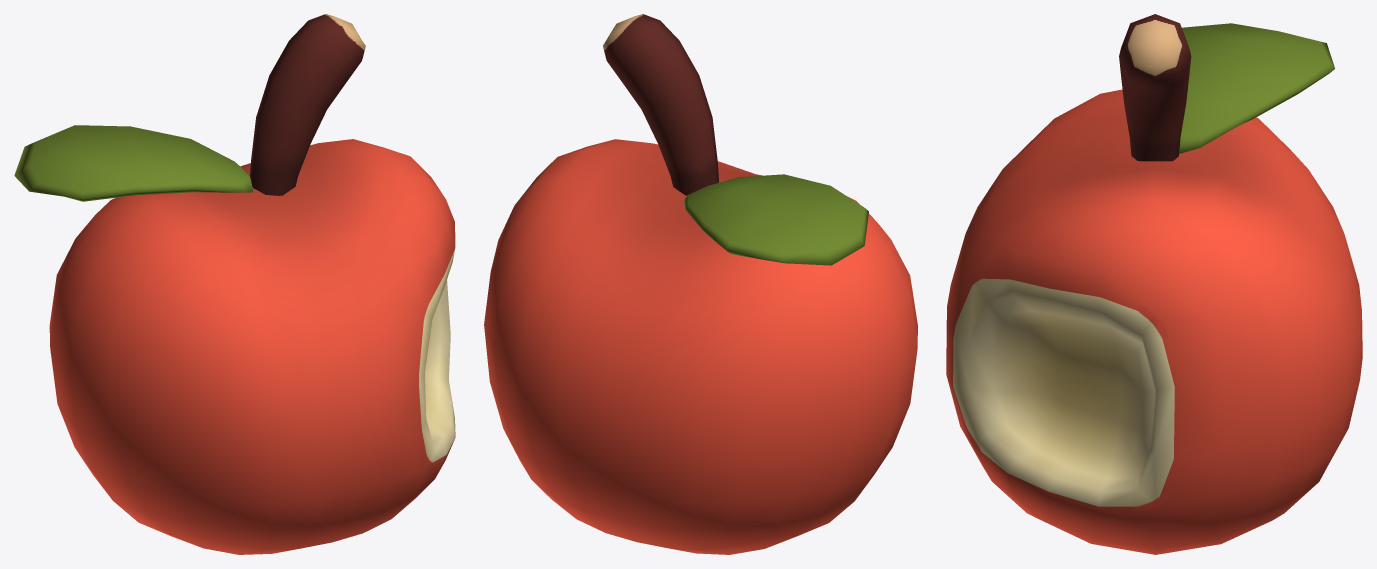
The model's file is Apple_mod.fbx.
3 views of the same model, side by side, from view 1: azimuth 30°, elevation 25°; view 2: azimuth 150°, elevation 25°; view 3: azimuth 270°, elevation 25° (orthographic). The views are drawn at different scales.
Parts seen in each view (by area): view 1: Apple; view 2: Apple; view 3: Apple.
Boxes of the visible parts, x1,y1,x2,y2 form: Apple: [14, 14, 455, 554]; Apple: [484, 14, 917, 554]; Apple: [946, 14, 1362, 554].
Size of the model in its own units: 54.35 by 66.95 by 46.97.
